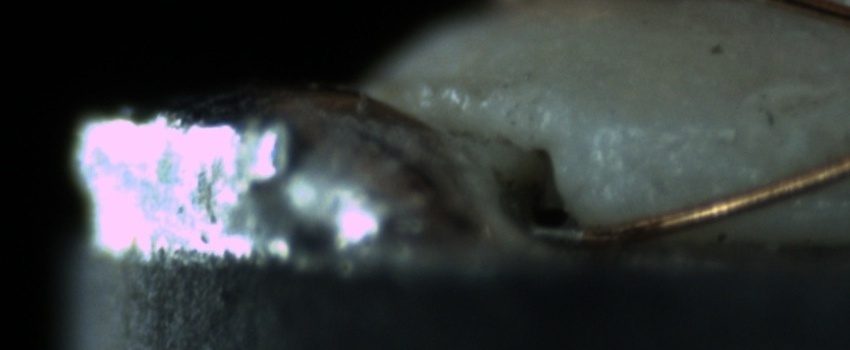DL: (591, 108, 756, 153)
